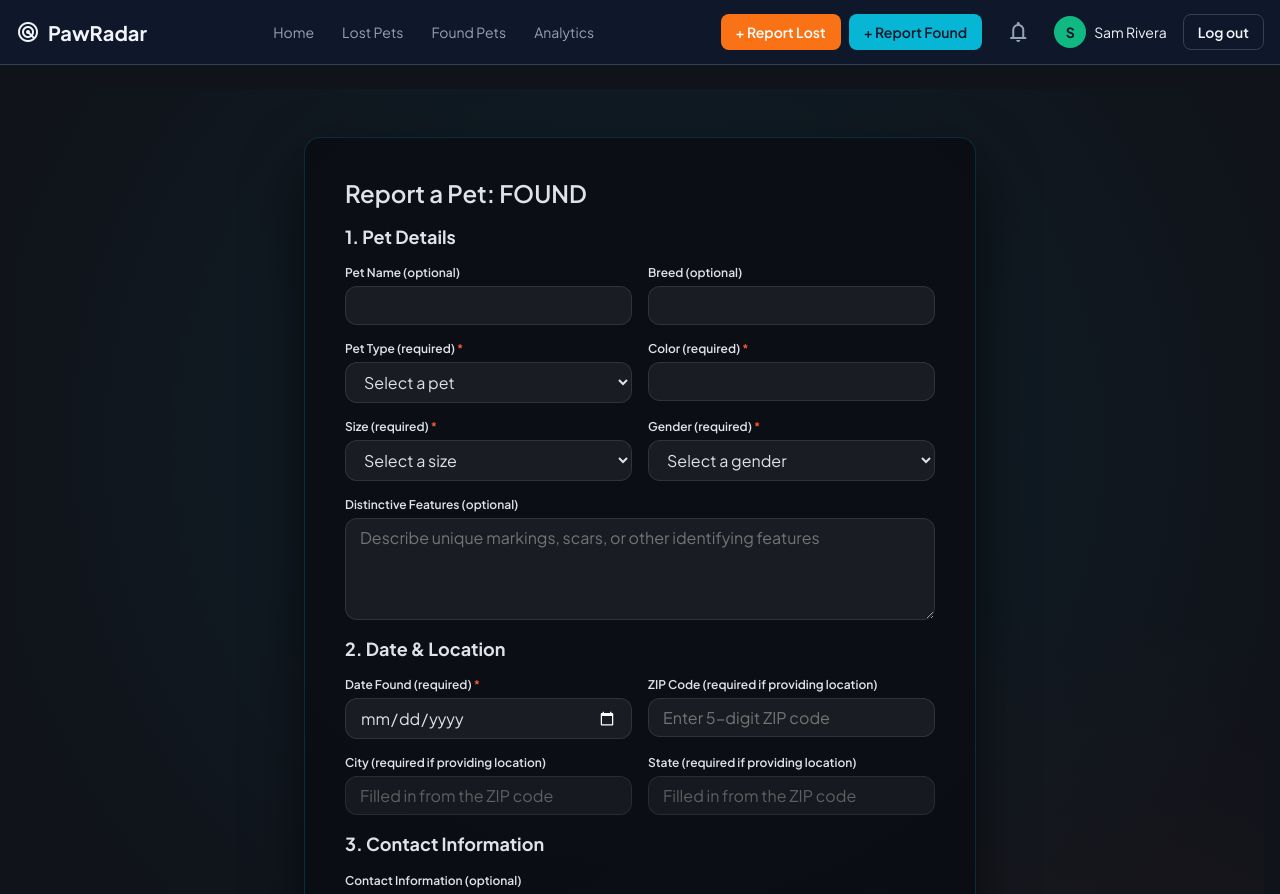
Scenario: ReportPetPage › 3. navigates to the new FOUND report details with confirmation
Select "Dog" in the dropdown labelled "Pet Type (required)". click: (488, 383)
box: [345,362,632,403]
Type "Brown" into the field labelled "Color (required)". click: (792, 382)
box: [648,362,935,401]
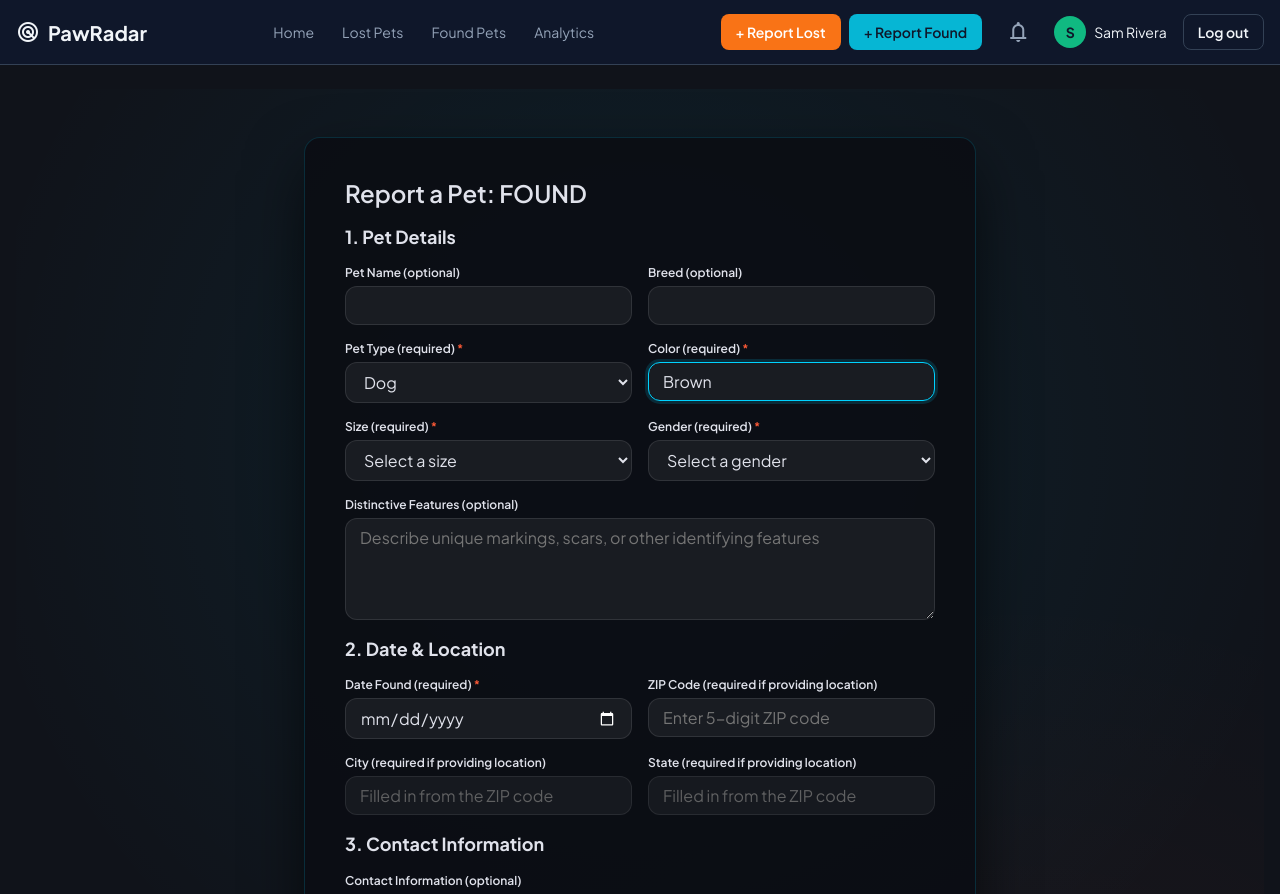
Select "Small" in the dropdown labelled "Size (required)". click: (488, 461)
box: [345,440,632,481]
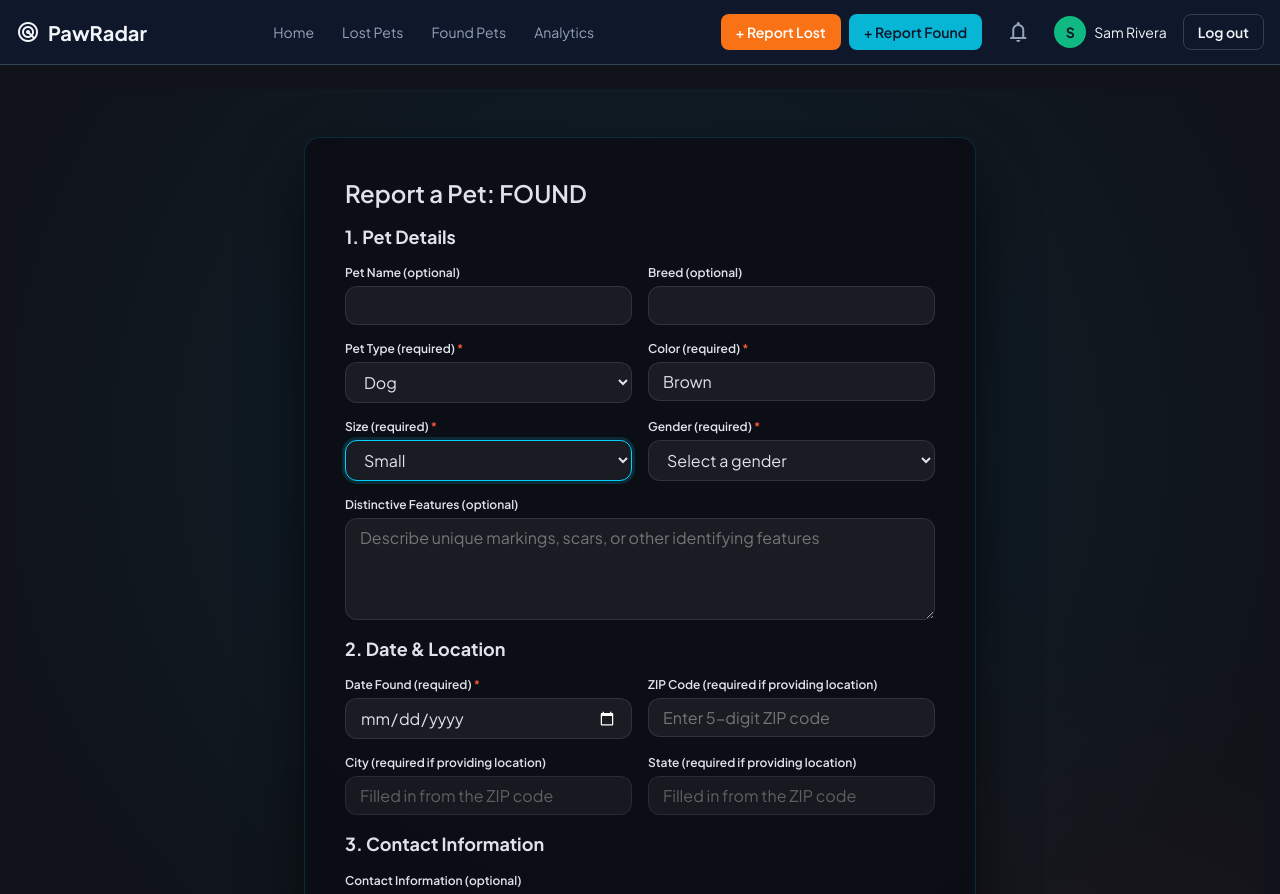
Select "Male" in the dropdown labelled "Gender (required)". click: (792, 461)
box: [648,440,935,481]
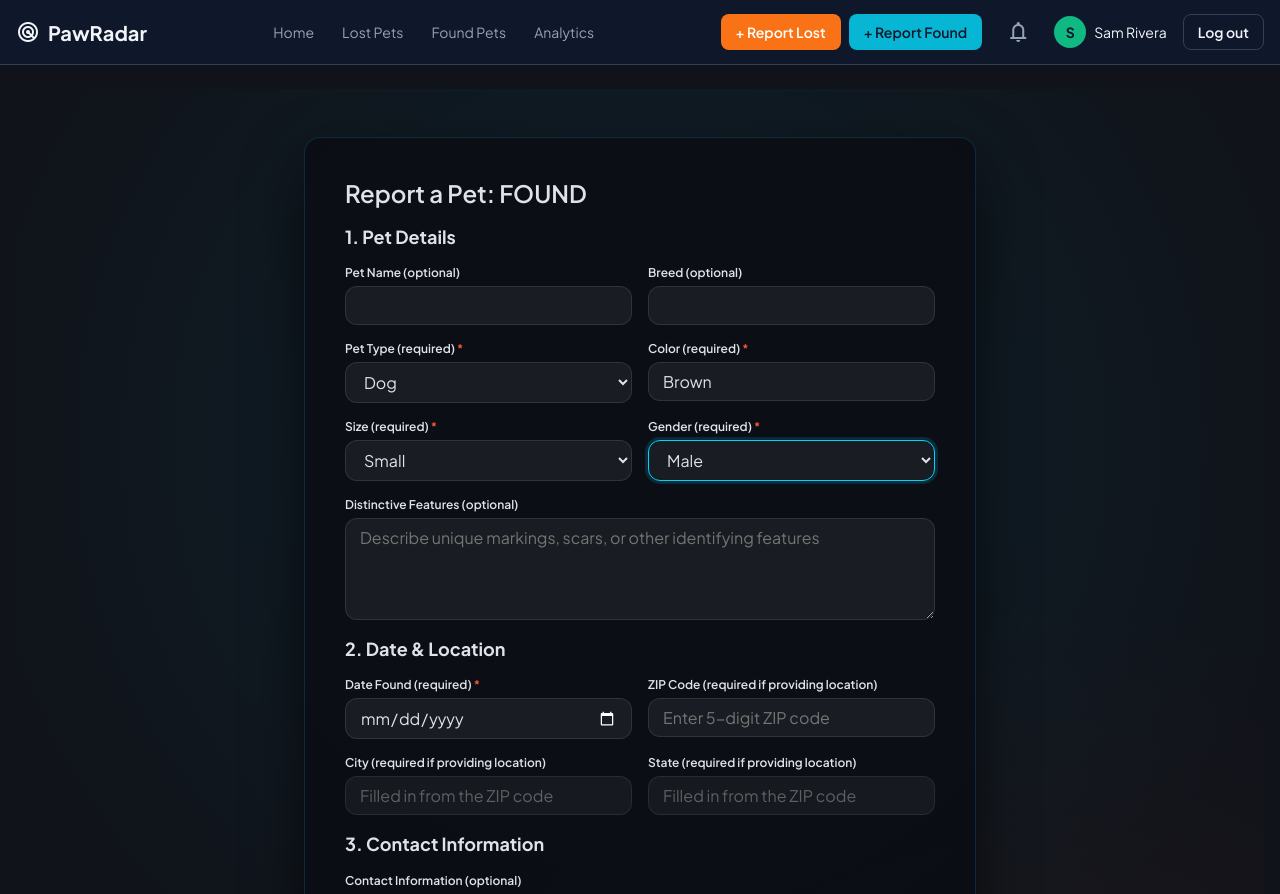
Type "2026-10-20" into the date field labelled "Date Found (required)". click: (488, 719)
box: [345,698,632,739]
Type "23220" into the field labelled "ZIP Code (required if providing location)". click: (792, 718)
box: [648,698,935,737]
(page scrolled)
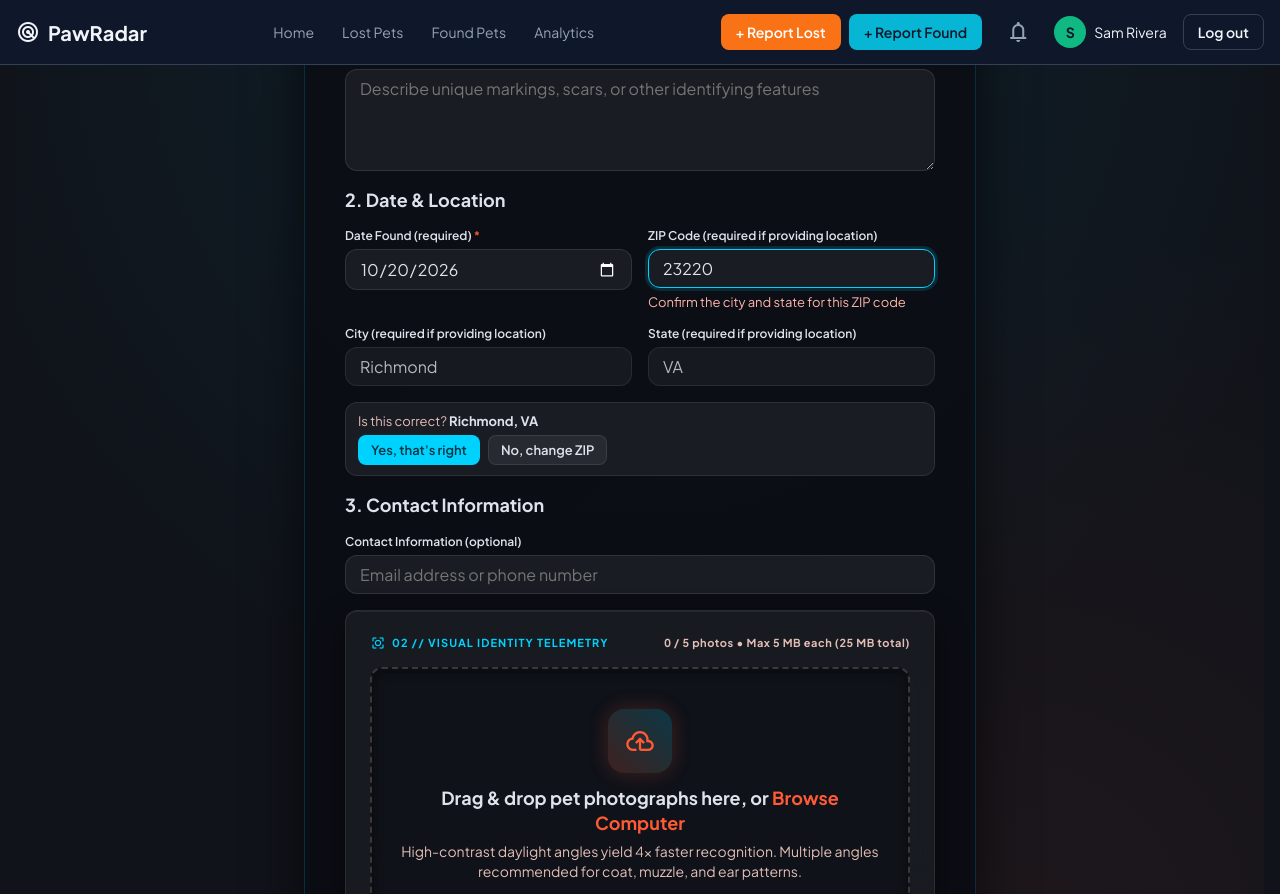
Click the button "Yes, that's right". click: (419, 450)
box: [358,435,480,465]
(page scrolled)
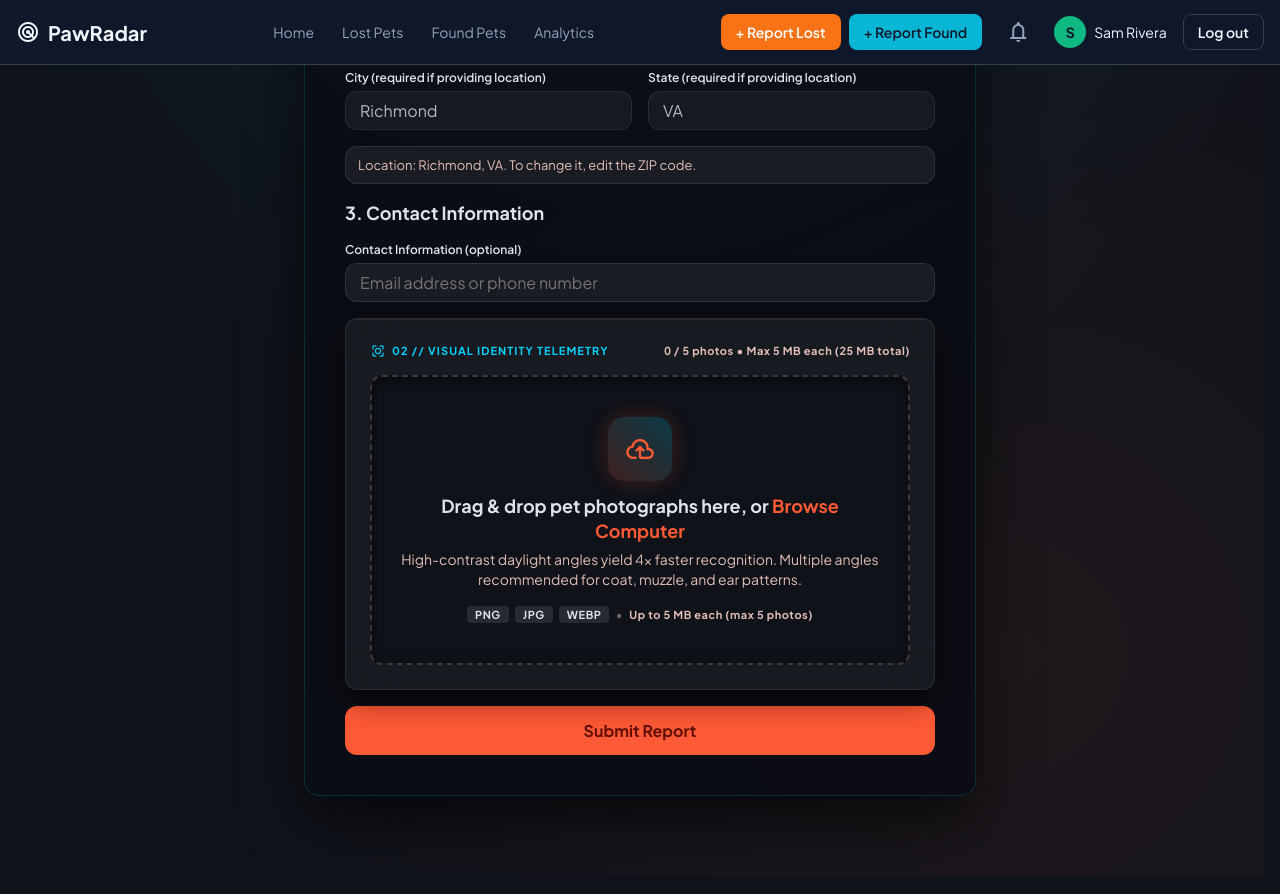
Click the button "Submit Report". click: (640, 730)
box: [345,706,935,754]
(page scrolled)
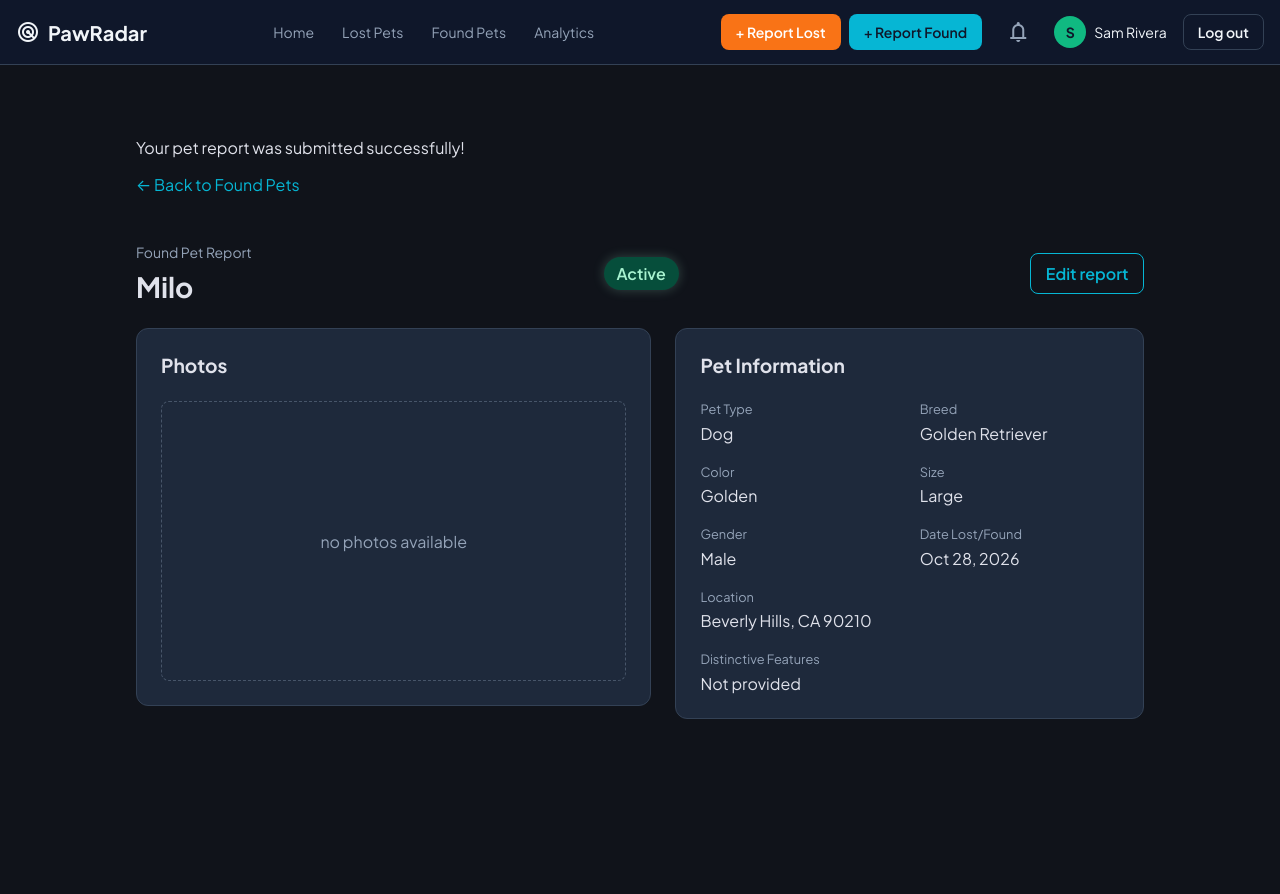
expect the heading "Milo" is shown: met, box [136,269,193,304]
expect the message reads "Your pet report was submitted successfully!": met, box [136,137,465,158]
expect the button "Submit Report" is gone: met
